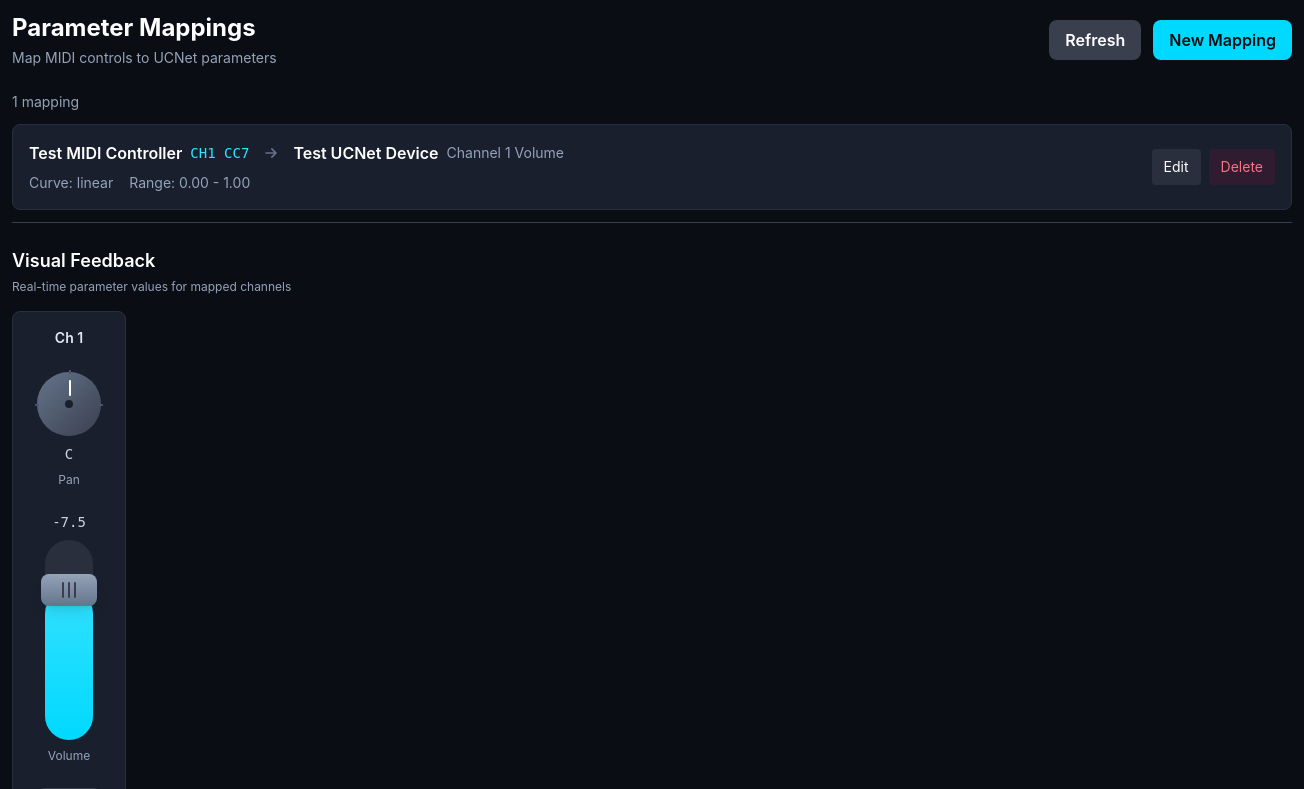
it: MappingManager › closes create form when Cancel is clicked
# Open form
Click the button "New Mapping".
click(1223, 40)  # box [1153,20,1292,60]
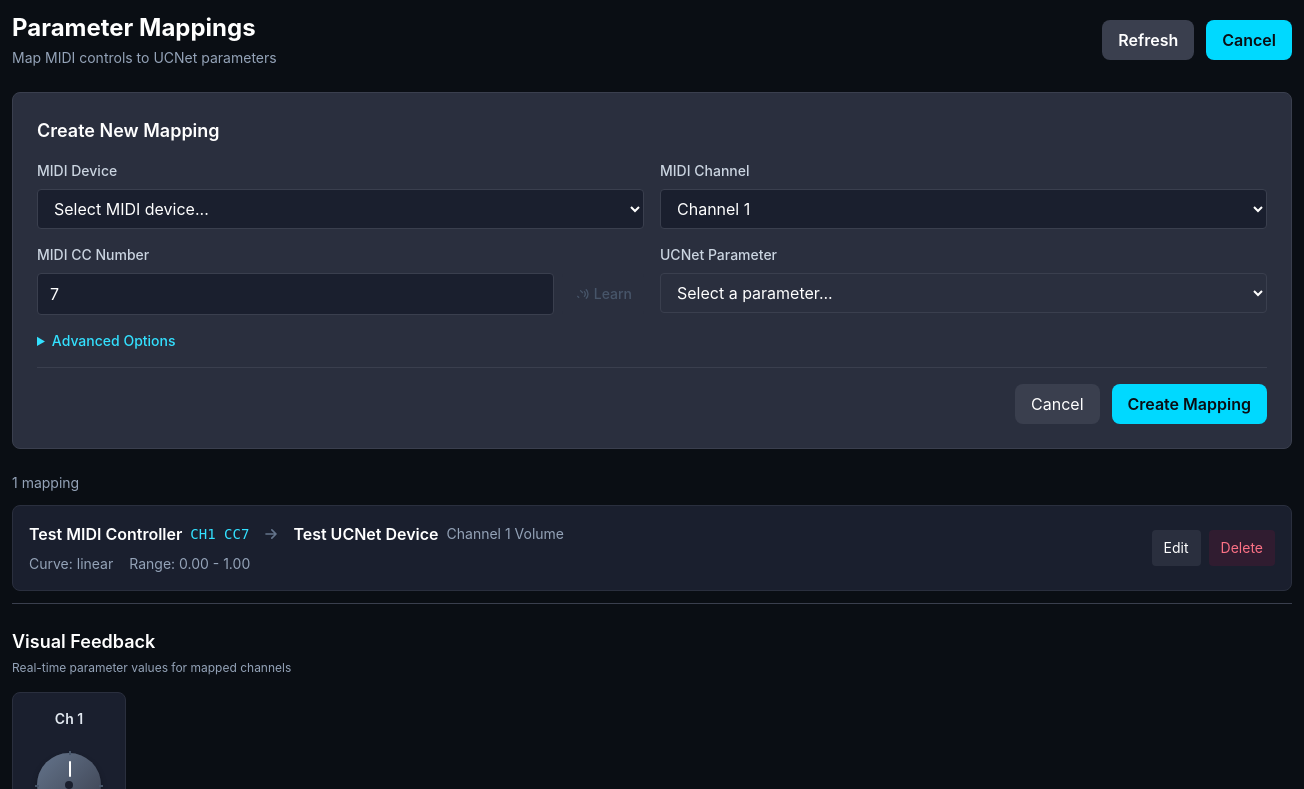
Expected: the heading "Create New Mapping" is shown, [37,120,220,141]
# Close form
Click the 2nd button "Cancel".
click(1057, 404)  # box [1015,384,1100,424]
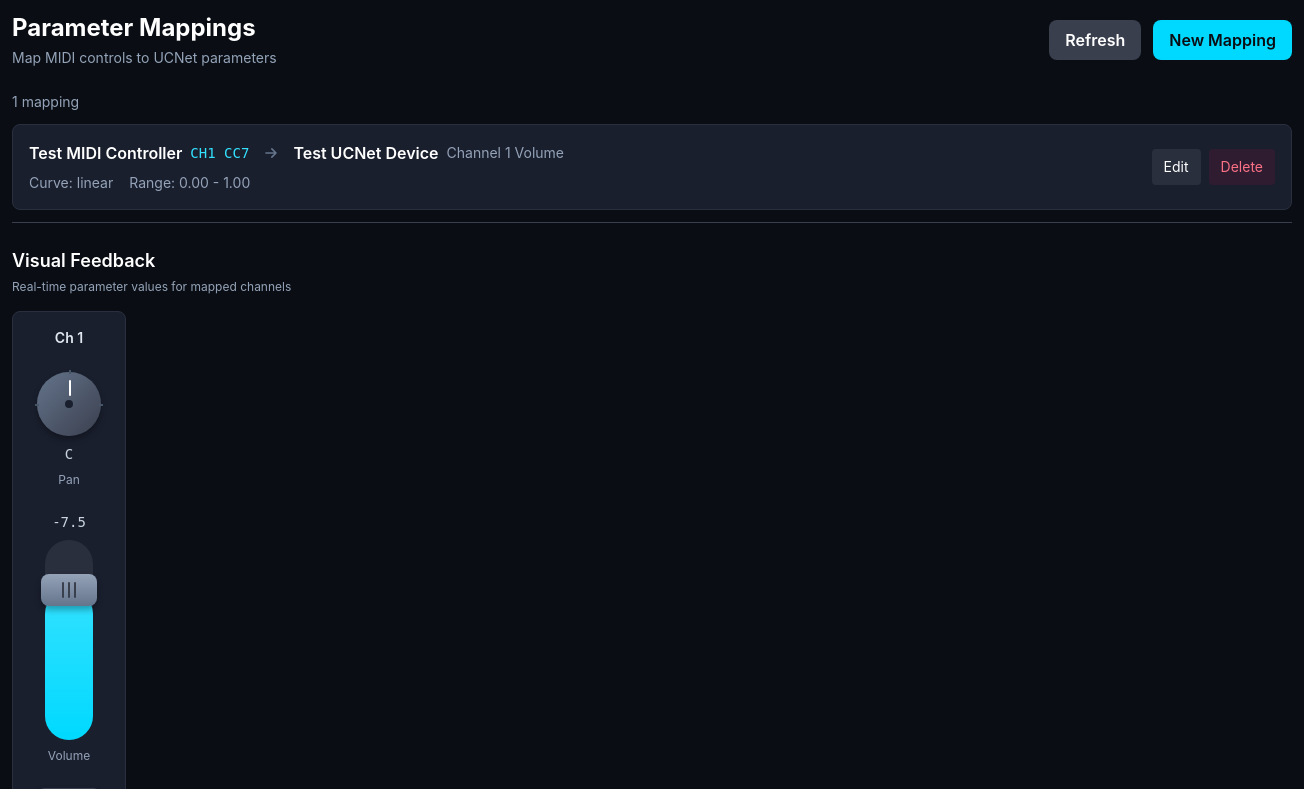
Expected: the heading "Create New Mapping" is gone
